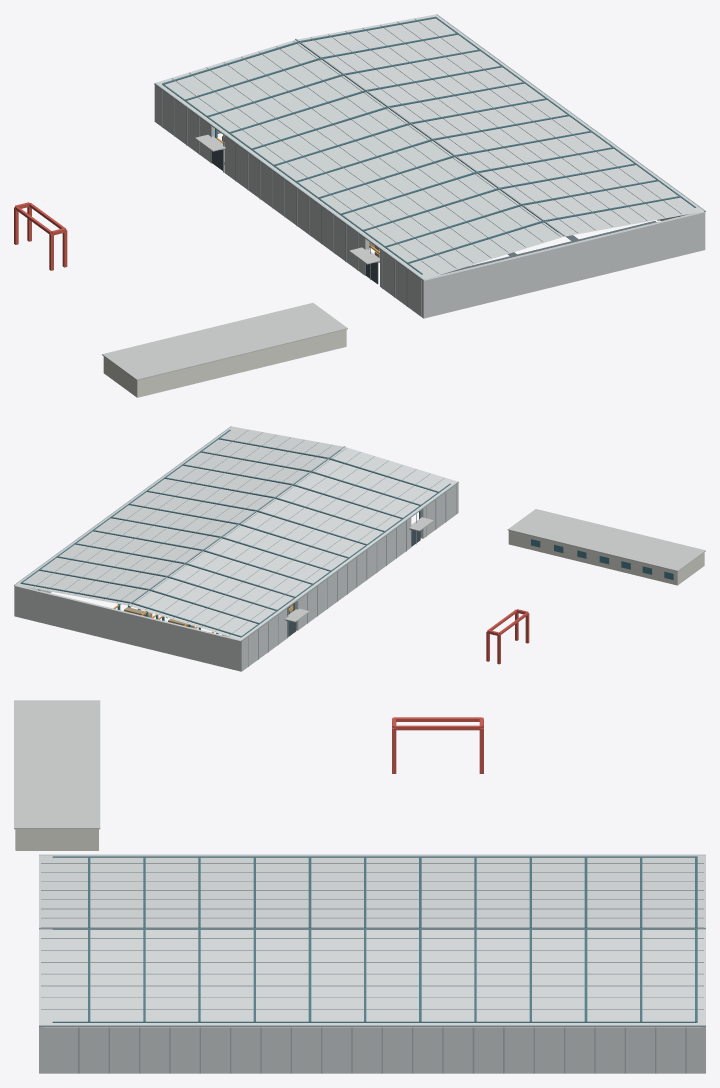
The model's file is buildings.glb.
The picture shows the model from 3 angles, top to bottom: view 1: azimuth 30°, elevation 25°; view 2: azimuth 150°, elevation 25°; view 3: azimuth 270°, elevation 25°; orthographic projection. The views are drawn at different scales.
Parts seen in each view (by area): view 1: Warehouse south wall, Auxiliary roof, Warehouse west wall 430, Roof sheet 7 west, Roof sheet 3 west, Roof sheet 5 west, Roof sheet 1 west, Roof sheet 0 west, Roof sheet 4 west, Roof sheet 2 west, Roof sheet 6 west, Roof sheet 7 east (+13 smaller); view 2: Warehouse north wall, Auxiliary roof, Warehouse west wall 430, Roof sheet 1 west, Roof sheet 7 west, Roof sheet 5 west, Roof sheet 3 west, Roof sheet 0 west, Roof sheet 2 west, Roof sheet 6 west, Roof sheet 4 west, Roof sheet 7 east (+13 smaller); view 3: Warehouse east wall, Auxiliary roof, Roof sheet 7 east, Roof sheet 1 east, Roof sheet 6 east, Roof sheet 5 east, Roof sheet 3 east, Roof sheet 2 east, Roof sheet 0 east, Roof sheet 4 east, Roof sheet 1 west, Roof sheet 7 west (+28 smaller).
Part boxes in pixels (x1=…): Warehouse south wall: x1=421, y1=211, x2=705, y2=318; Auxiliary roof: x1=102, y1=303, x2=347, y2=380; Warehouse west wall 430: x1=224, y1=136, x2=368, y2=275; Roof sheet 7 west: x1=389, y1=211, x2=561, y2=278; Roof sheet 3 west: x1=255, y1=113, x2=427, y2=180; Roof sheet 5 west: x1=322, y1=162, x2=494, y2=229; Roof sheet 1 west: x1=189, y1=64, x2=361, y2=131; Roof sheet 0 west: x1=156, y1=40, x2=327, y2=107; Roof sheet 4 west: x1=289, y1=137, x2=461, y2=204; Roof sheet 2 west: x1=222, y1=89, x2=394, y2=155; Roof sheet 6 west: x1=356, y1=186, x2=527, y2=253; Roof sheet 7 east: x1=531, y1=185, x2=702, y2=234; Warehouse north wall: x1=14, y1=585, x2=243, y2=671; Auxiliary roof: x1=507, y1=509, x2=705, y2=571; Warehouse west wall 430: x1=294, y1=518, x2=411, y2=630; Roof sheet 1 west: x1=156, y1=566, x2=294, y2=620; Roof sheet 7 west: x1=317, y1=448, x2=456, y2=502; Roof sheet 5 west: x1=263, y1=487, x2=402, y2=541; Roof sheet 3 west: x1=209, y1=527, x2=348, y2=581; Roof sheet 0 west: x1=128, y1=586, x2=267, y2=640; Roof sheet 2 west: x1=182, y1=546, x2=321, y2=600; Roof sheet 6 west: x1=290, y1=468, x2=429, y2=521; Roof sheet 4 west: x1=236, y1=507, x2=375, y2=561; Roof sheet 7 east: x1=203, y1=427, x2=341, y2=467; Warehouse east wall: x1=42, y1=1027, x2=702, y2=1073; Auxiliary roof: x1=14, y1=700, x2=100, y2=829; Roof sheet 7 east: x1=43, y1=929, x2=126, y2=1025; Roof sheet 1 east: x1=540, y1=929, x2=623, y2=1025; Roof sheet 6 east: x1=126, y1=929, x2=209, y2=1025; Roof sheet 5 east: x1=209, y1=929, x2=291, y2=1025; Roof sheet 3 east: x1=375, y1=929, x2=457, y2=1025; Roof sheet 2 east: x1=457, y1=929, x2=540, y2=1025; Roof sheet 0 east: x1=623, y1=929, x2=705, y2=1025; Roof sheet 4 east: x1=292, y1=929, x2=374, y2=1025; Roof sheet 1 west: x1=540, y1=855, x2=623, y2=927; Roof sheet 7 west: x1=43, y1=855, x2=126, y2=927.
Bounding box in the file's own units: 115 × 9.35 × 96.29.
